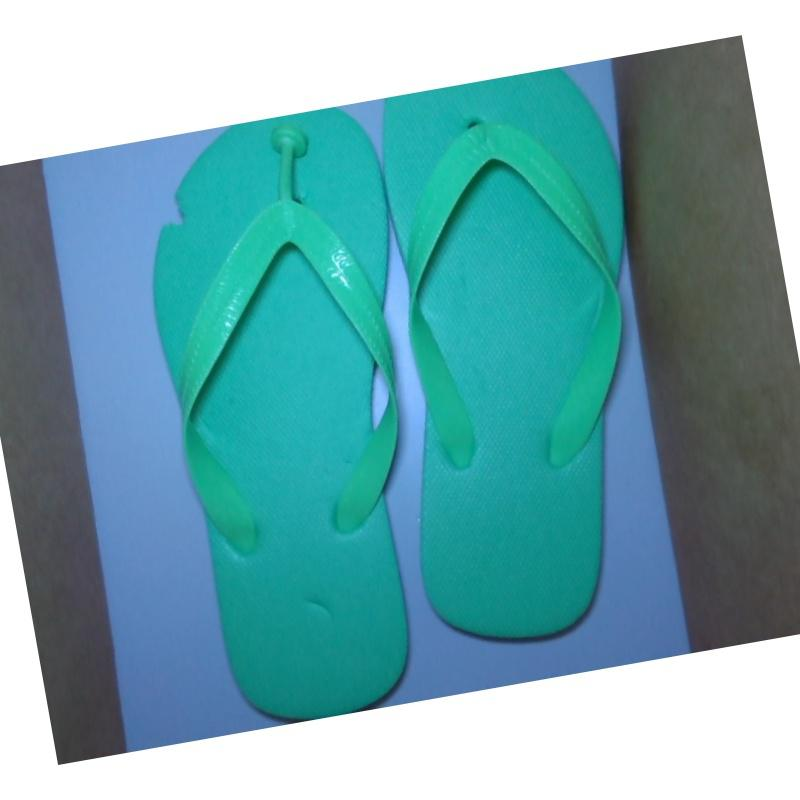chipped: (147, 175, 205, 251)
detached: (264, 119, 319, 169)
